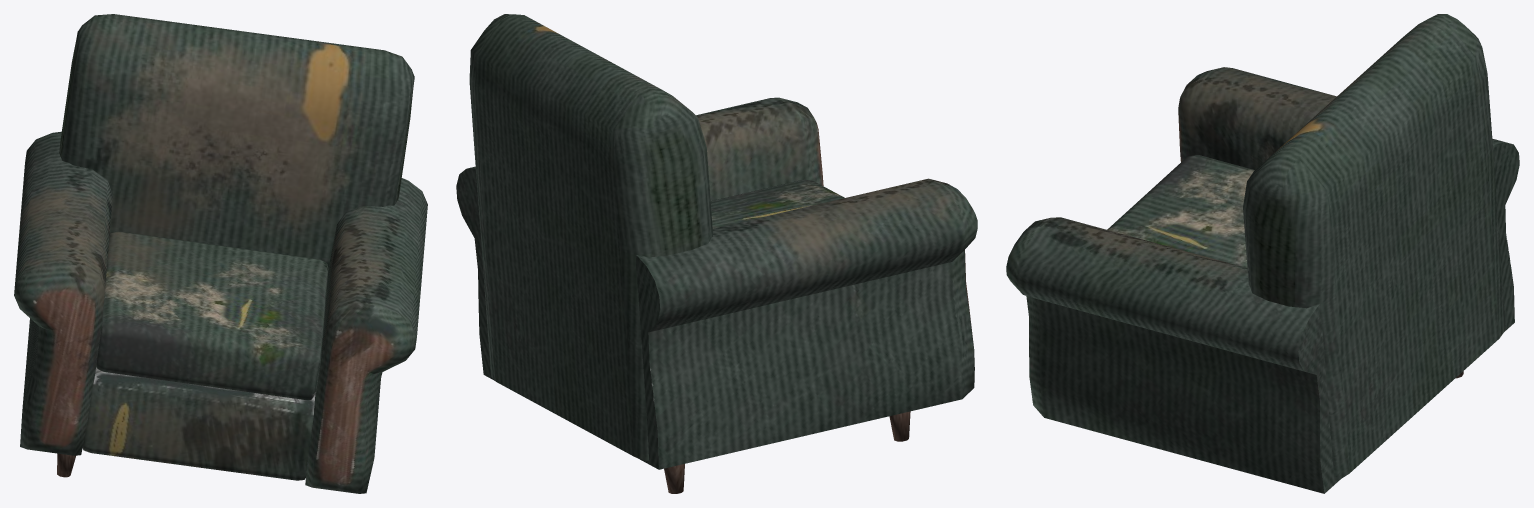
The model's file is abandoned_sofa.glb.
3 renders of one model, left to right at view 1: azimuth 30°, elevation 25°; view 2: azimuth 150°, elevation 25°; view 3: azimuth 270°, elevation 25°, orthographic. The views are drawn at different scales.
Visible parts, largest first — view 1: tocut.002; view 2: tocut.002; view 3: tocut.002.
Boxes of the visible parts, left/top/right/bottom form: tocut.002: left=14, top=14, right=427, bottom=493; tocut.002: left=456, top=14, right=977, bottom=493; tocut.002: left=1006, top=14, right=1519, bottom=493.
Bounding box in the file's own units: 1261 × 975 × 1218.
Materials: 1 (1 with a texture image).
